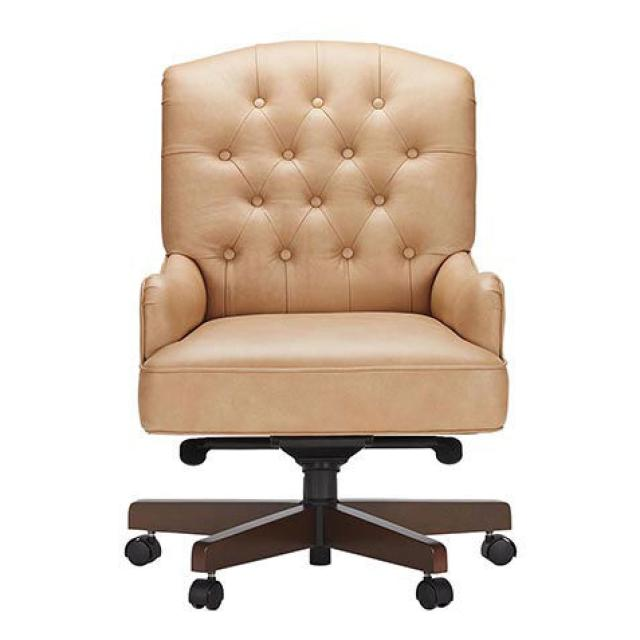chair: (90, 28, 603, 640)
